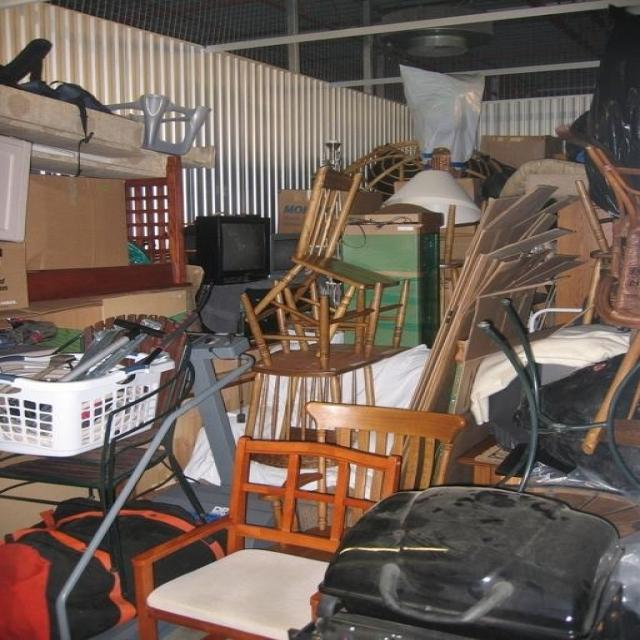E-waste: (189, 205, 288, 283)
Plastics: (275, 484, 640, 640), (0, 355, 179, 467), (134, 85, 214, 163)
